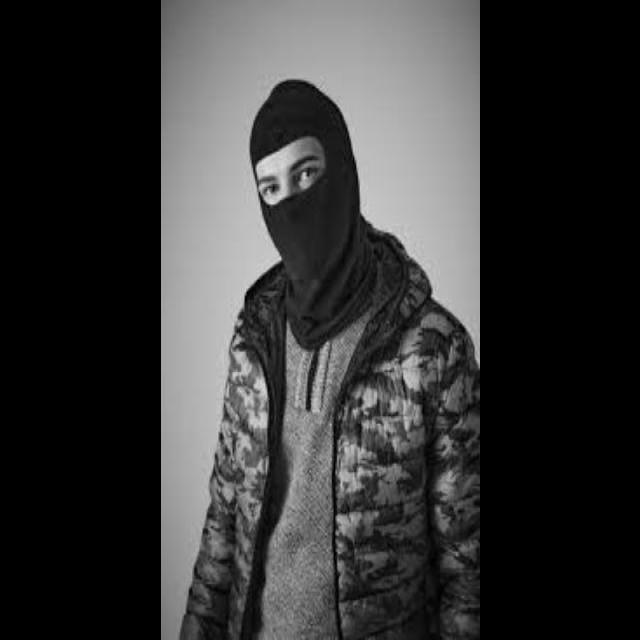6_pasamontana: (250, 80, 376, 328)
